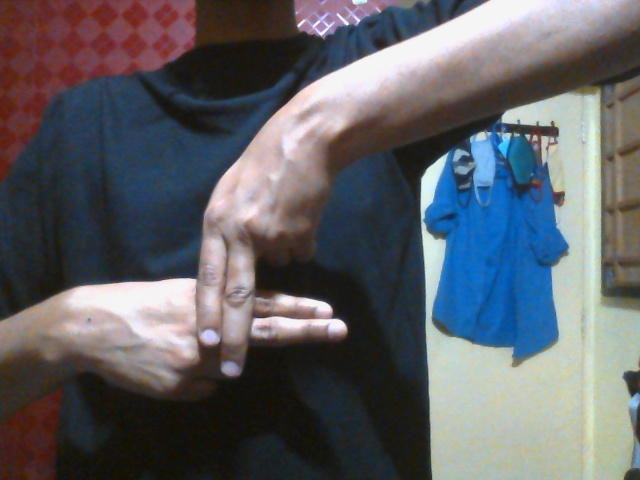F: (86, 140, 348, 403)
